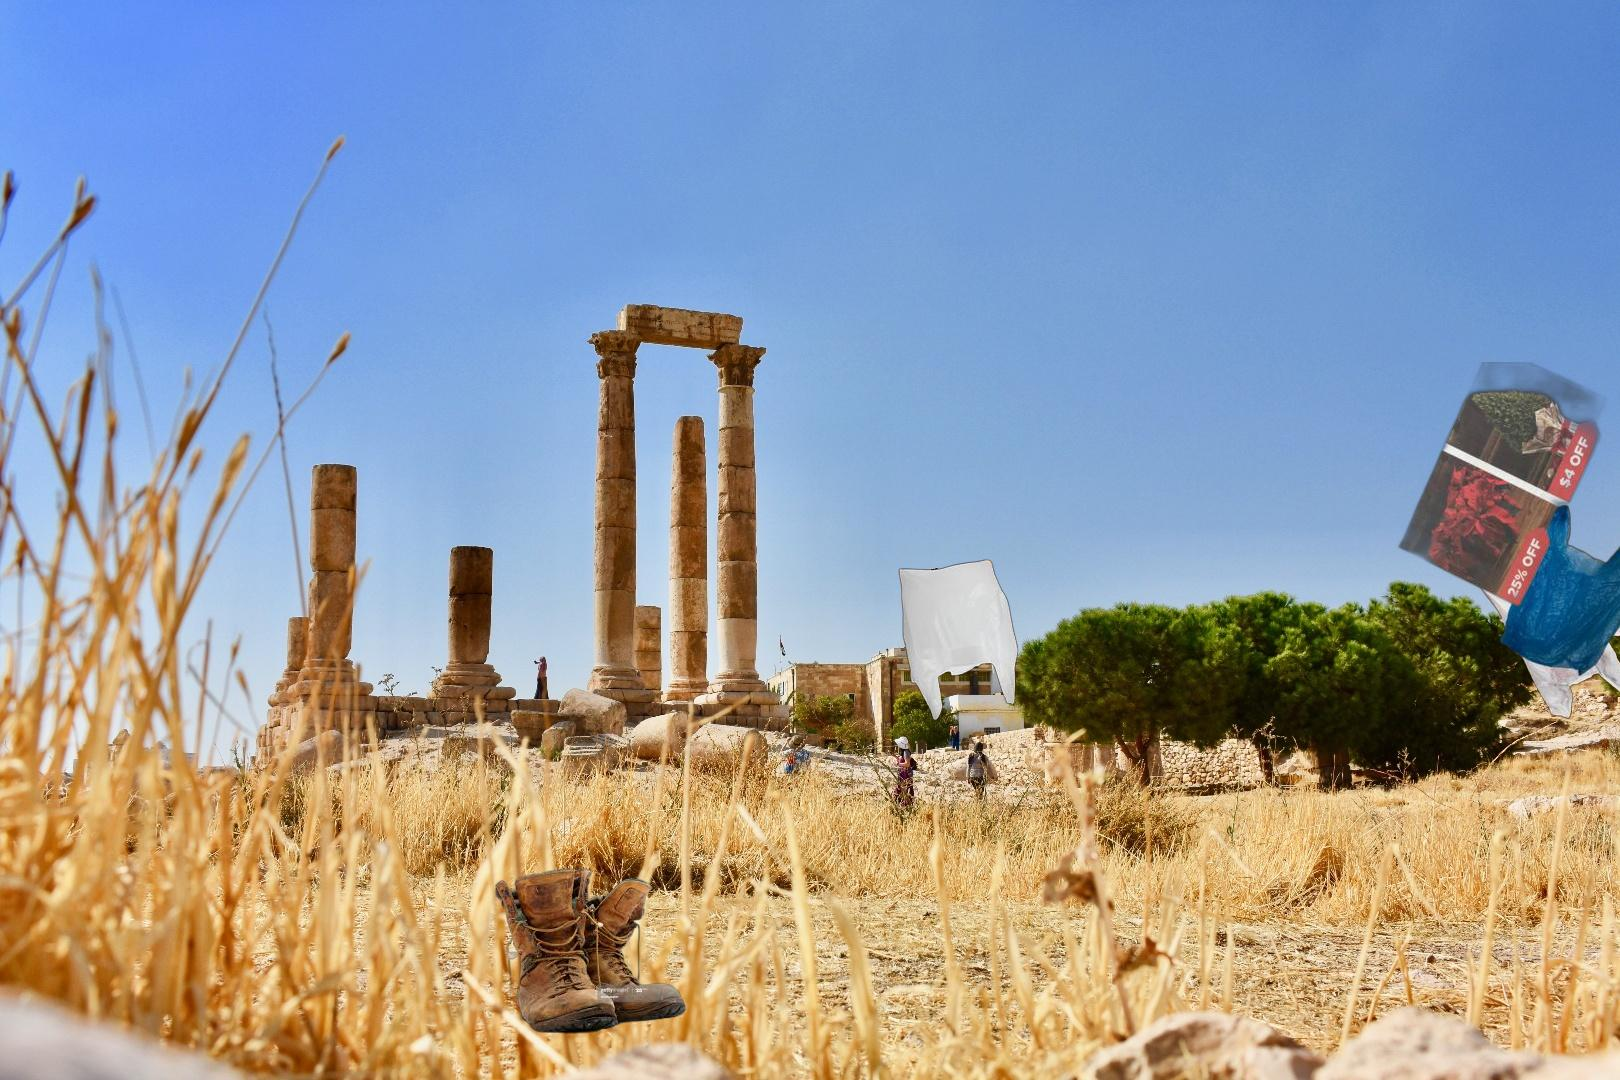paper: (1352, 362, 1620, 745)
plastic-bag: (1463, 501, 1620, 720), (897, 558, 1021, 722)
shoes: (492, 865, 689, 1035)
